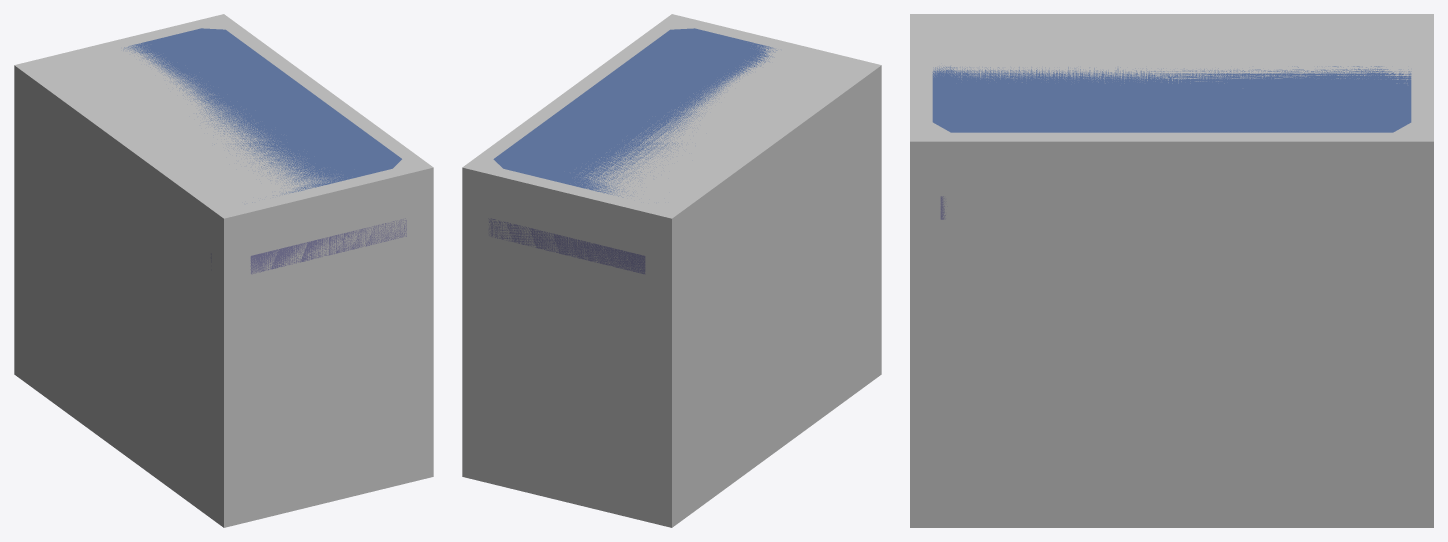
File: SM_Building_16_Middle.fbx
3 views of the same model, side by side, from view 1: azimuth 30°, elevation 25°; view 2: azimuth 150°, elevation 25°; view 3: azimuth 270°, elevation 25° (orthographic). The views are drawn at different scales.
Visible parts, largest first — view 1: SM_Building_16_Middle_ConvexHulls, SM_Building_16_Middle; view 2: SM_Building_16_Middle_ConvexHulls, SM_Building_16_Middle; view 3: SM_Building_16_Middle_ConvexHulls, SM_Building_16_Middle.
Boxes of the visible parts, x1,y1,x2,y2 form: SM_Building_16_Middle_ConvexHulls: [14, 14, 433, 527]; SM_Building_16_Middle: [123, 28, 406, 274]; SM_Building_16_Middle_ConvexHulls: [462, 14, 881, 527]; SM_Building_16_Middle: [488, 28, 777, 274]; SM_Building_16_Middle_ConvexHulls: [910, 14, 1433, 527]; SM_Building_16_Middle: [932, 66, 1411, 219].
Size of the model in its own units: 426 by 738 by 600.
Materials: 2 (1 with a texture image).
